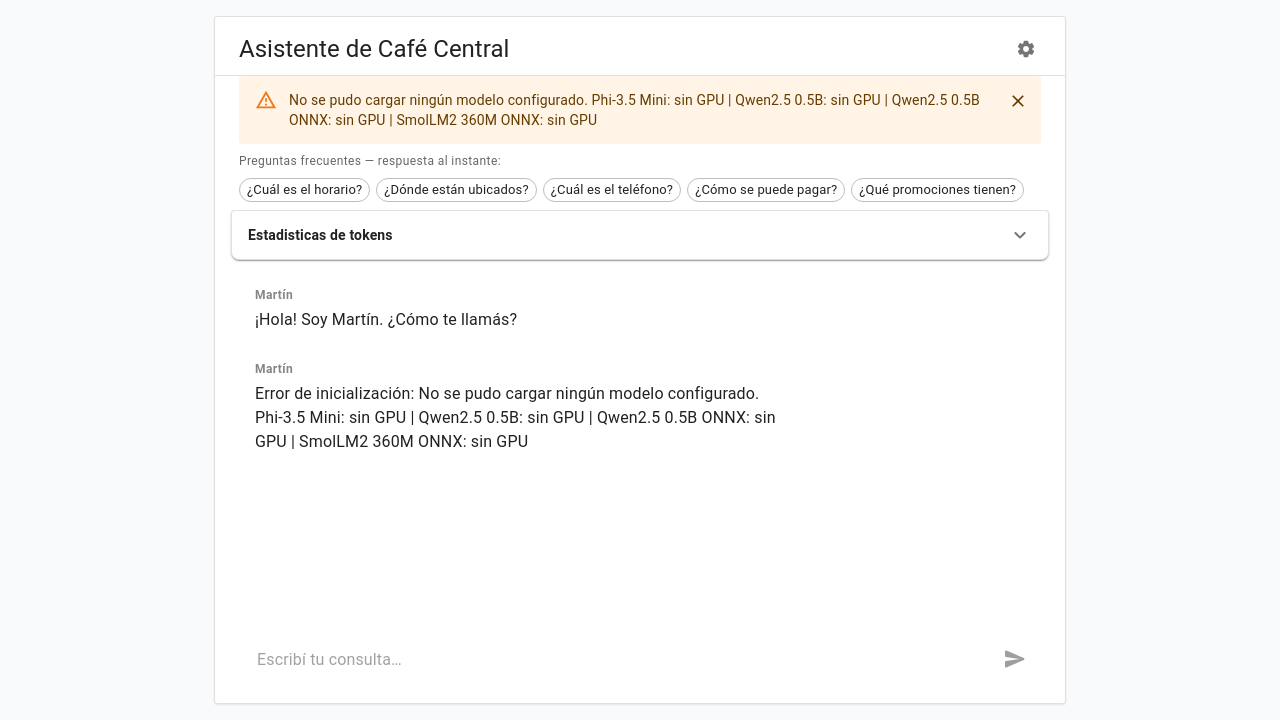
Test: App › si cierra configuración sin modelo cargado muestra aviso
The width and height of the screenshot is (1280, 720).
Expected: the text "Error de inicialización" is shown, [255,384,780,451]
Click the button named "abrir configuración" at coordinates (1026, 49), box [1011,34,1041,64]
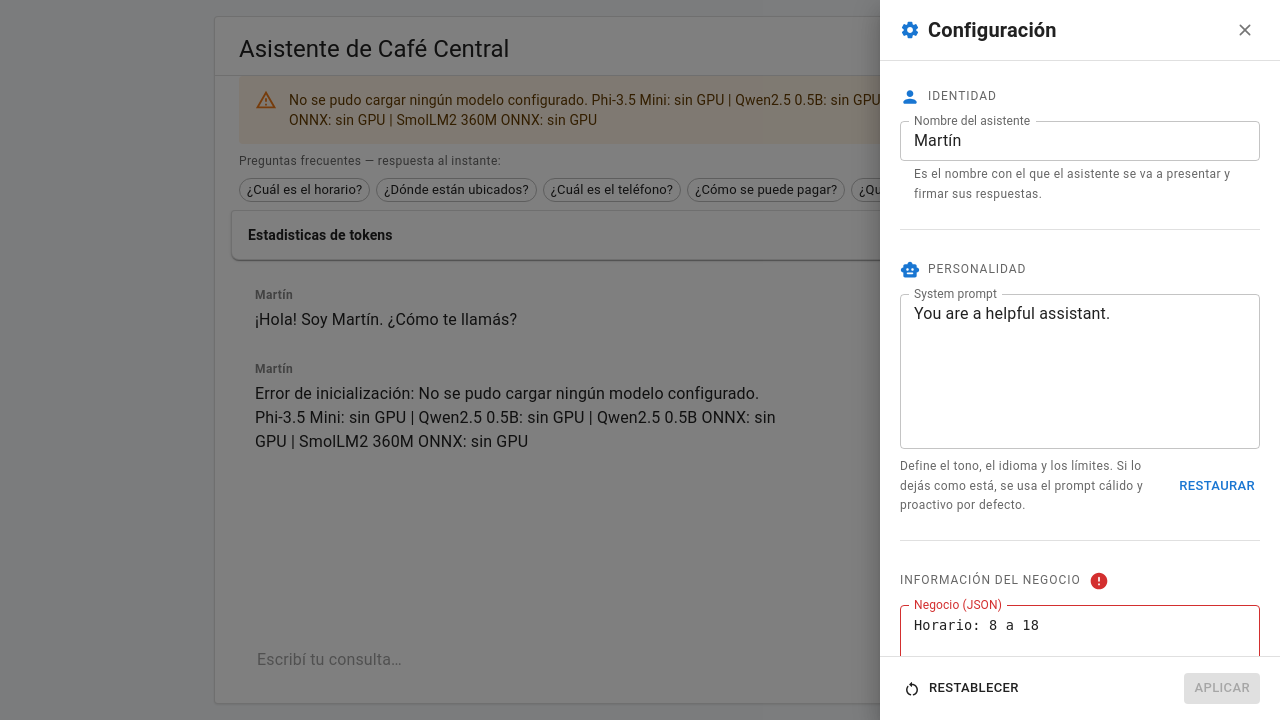
Now the heading "Configuración" is shown, box [928,14,1057,46]
Click the button named "cerrar configuración" at coordinates (1245, 30), box [1230,15,1260,45]
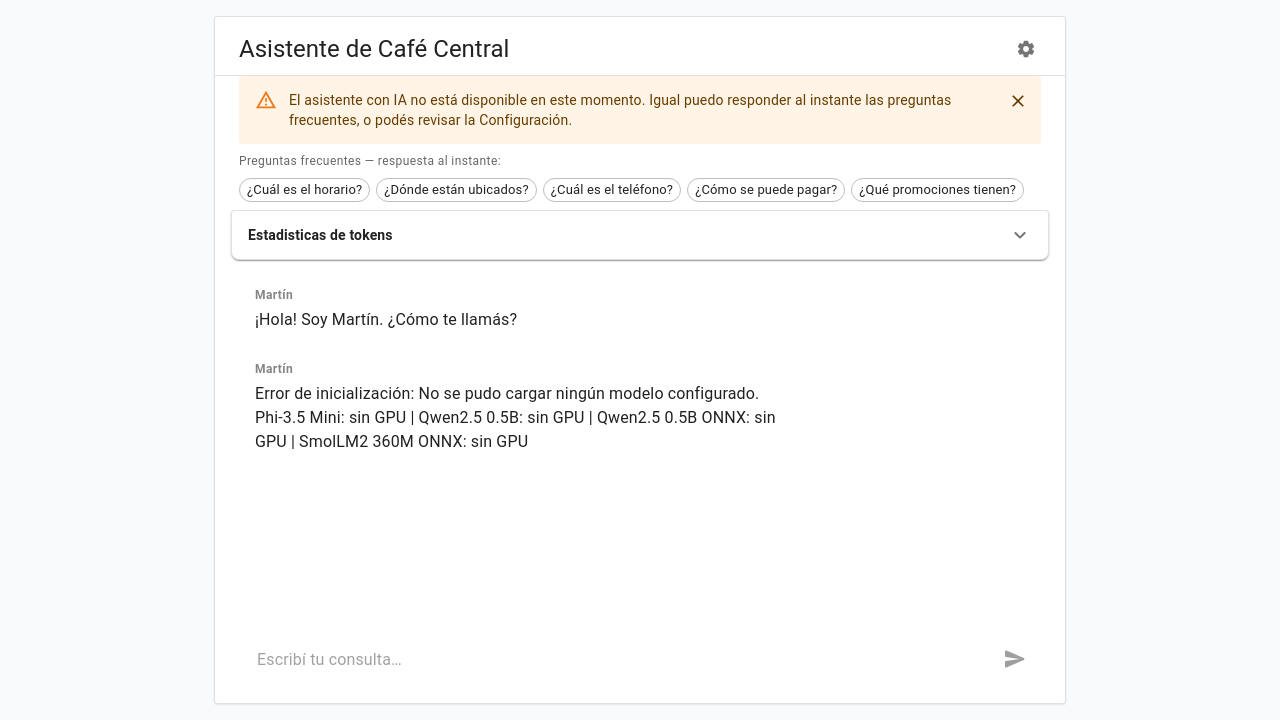
Now the text "no está disponible en este momento" is shown, box [289,92,952,128]
